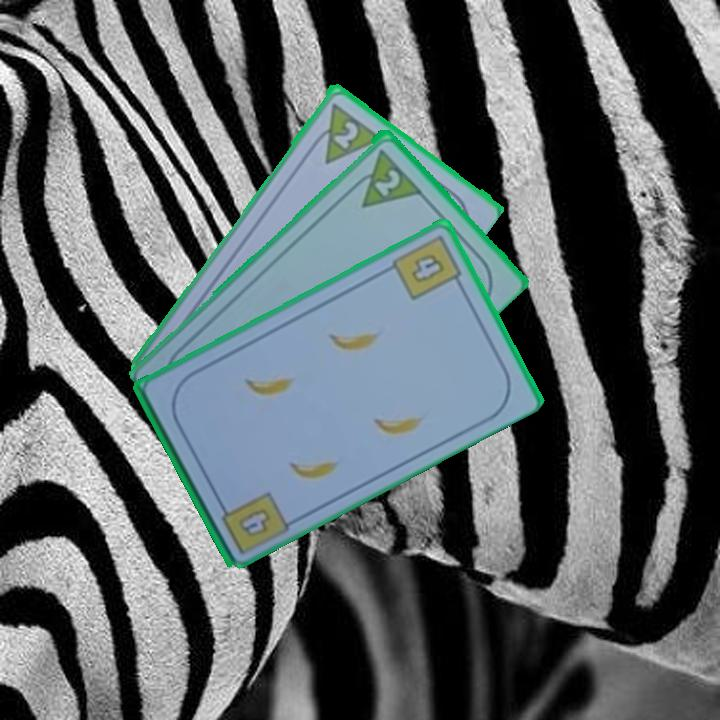2p: (344, 144, 423, 211), (329, 116, 362, 151)
4b: (388, 231, 466, 303), (234, 504, 274, 540)
